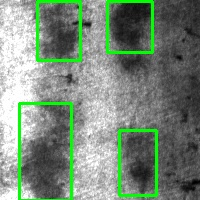patches: (19, 103, 71, 200), (37, 1, 80, 60), (119, 130, 156, 195), (107, 1, 152, 52)
